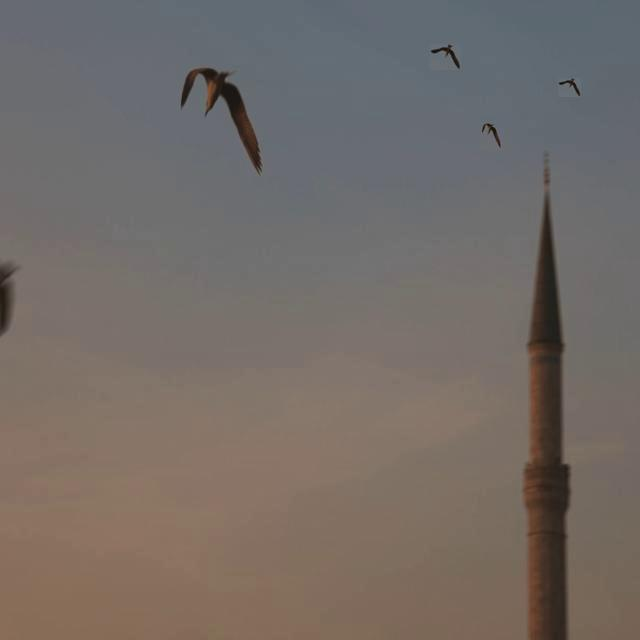bird: (179, 69, 263, 176), (0, 255, 25, 340), (430, 46, 462, 70), (480, 123, 502, 148), (559, 76, 582, 95)
